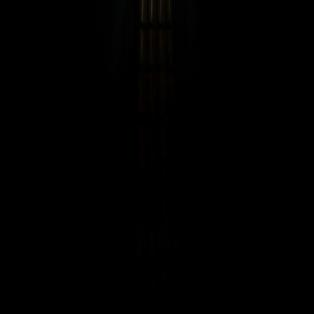Podoctatil: (130, 3, 186, 312)
